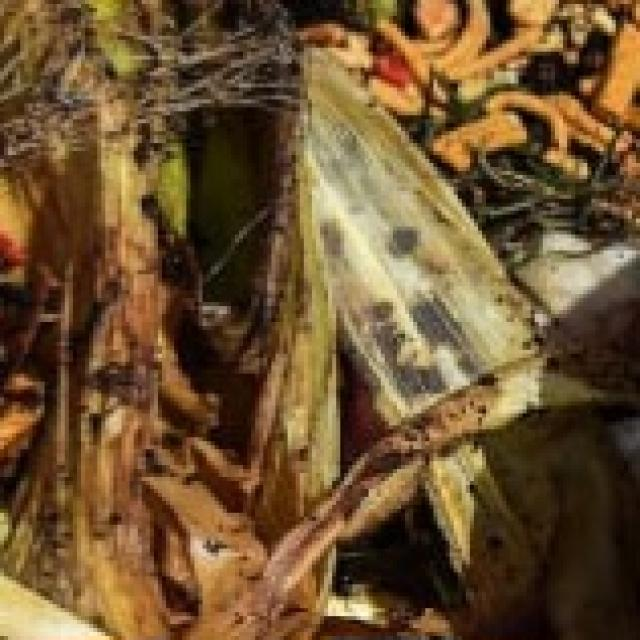food waste: (24, 0, 640, 620)
